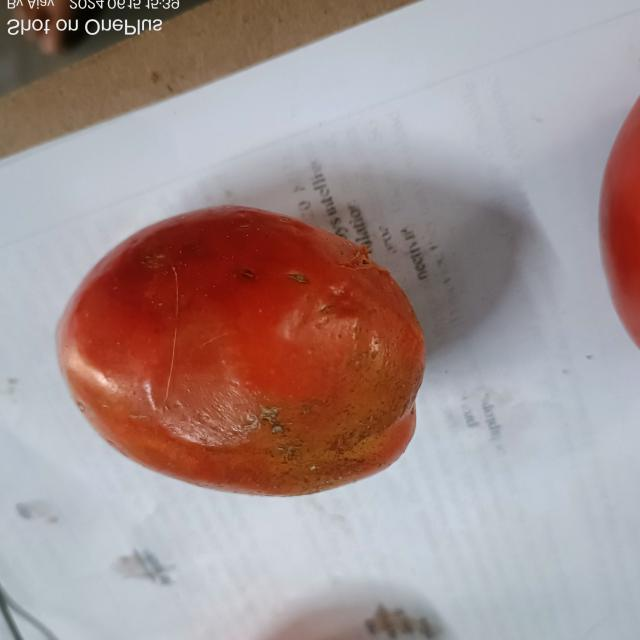Botrytis: (272, 443, 306, 468), (260, 408, 284, 436), (286, 270, 312, 290), (238, 267, 258, 282)
